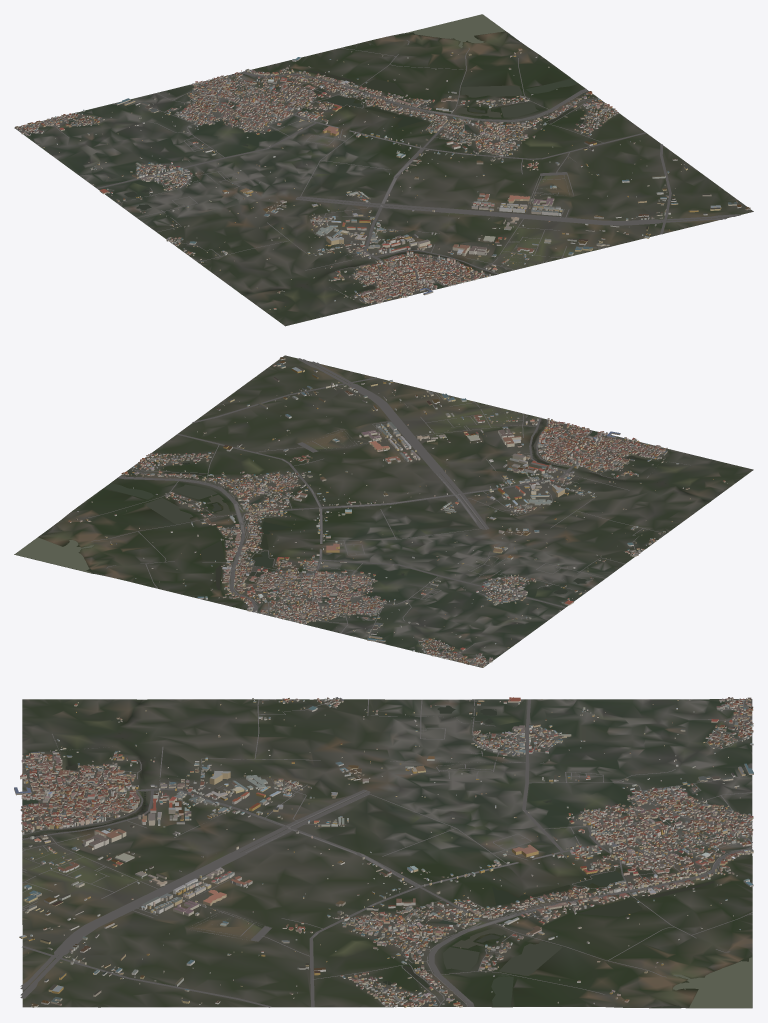
3 renders of one model, top to bottom at view 1: azimuth 30°, elevation 25°; view 2: azimuth 150°, elevation 25°; view 3: azimuth 270°, elevation 25°, orthographic. The views are drawn at different scales.
Visible parts, largest first — view 1: ground, buildings, roads, water; view 2: ground, buildings, roads, water; view 3: ground, buildings, roads, water.
Boxes of the visible parts, x1=… form: ground: x1=14, y1=26, x2=753, y2=326; buildings: x1=15, y1=44, x2=750, y2=309; roads: x1=21, y1=40, x2=740, y2=302; water: x1=124, y1=14, x2=583, y2=294; ground: x1=14, y1=355, x2=753, y2=667; buildings: x1=68, y1=357, x2=727, y2=667; roads: x1=88, y1=358, x2=690, y2=664; water: x1=14, y1=418, x2=689, y2=594; ground: x1=22, y1=699, x2=752, y2=1008; buildings: x1=14, y1=697, x2=753, y2=1007; roads: x1=20, y1=699, x2=752, y2=1007; water: x1=22, y1=705, x2=752, y2=1007.
Bounding box in the file's own units: 2814 × 33.65 × 2842.
